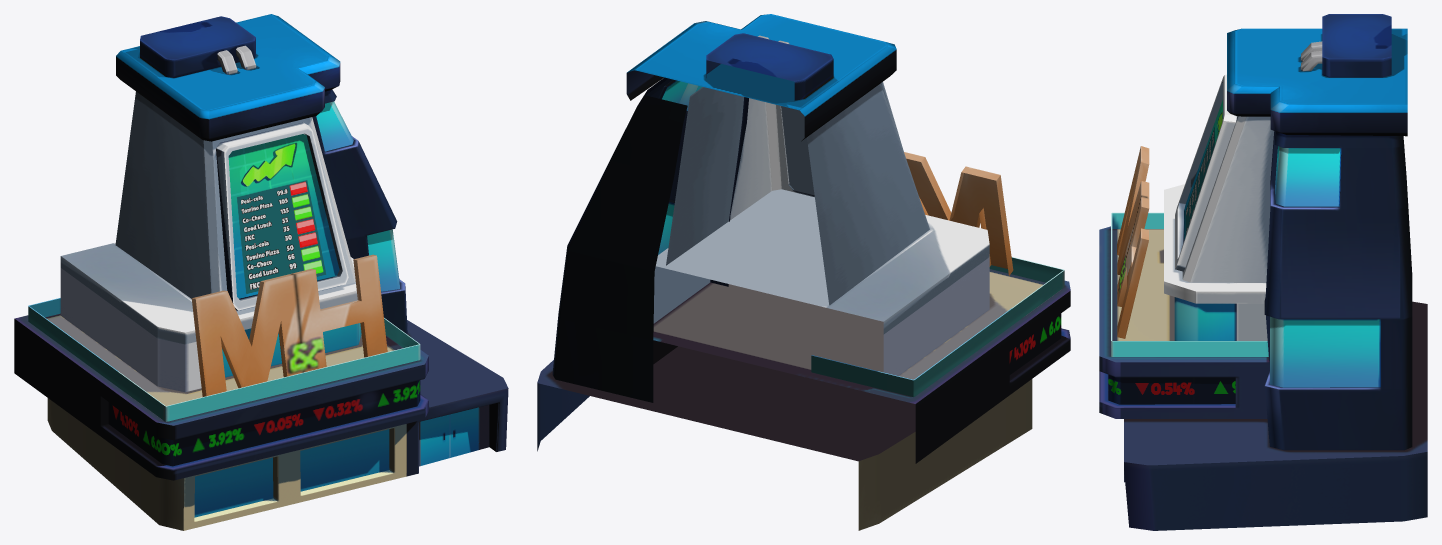
Rendered from StockMarket.fbx.
3 views of the same model, side by side, from view 1: azimuth 30°, elevation 25°; view 2: azimuth 150°, elevation 25°; view 3: azimuth 270°, elevation 25° (orthographic). The views are drawn at different scales.
Visible parts, largest first — view 1: polySurface13, signage, Screen02, NumberScreen01; view 2: polySurface13, signage, NumberScreen01; view 3: polySurface13, signage, NumberScreen01, Screen02.
Part boxes in pixels (box(x1,y1,x2,y2)): polySurface13: box(14, 14, 508, 530); signage: box(191, 254, 387, 396); Screen02: box(228, 133, 339, 299); NumberScreen01: box(108, 380, 420, 466); polySurface13: box(537, 14, 1070, 530); signage: box(904, 152, 1013, 275); NumberScreen01: box(1009, 313, 1061, 374); polySurface13: box(1099, 14, 1427, 530); signage: box(1117, 146, 1149, 338); NumberScreen01: box(1108, 374, 1235, 404); Screen02: box(1184, 100, 1222, 240).
Size of the model in its own units: 64.58 by 64.39 by 48.99.
2 materials, 2 textured.
